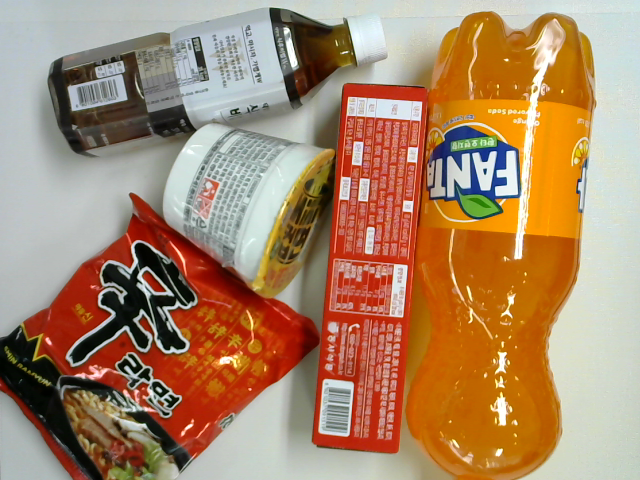Hejangmini: (161, 123, 337, 298)
Hwanta_Orange_1.5L: (404, 11, 595, 480)
Post-meal_recipe_W_tea_500ml: (48, 7, 388, 158)
Ritz_Cracker: (312, 83, 429, 456)
Sinramen: (1, 192, 319, 478)
